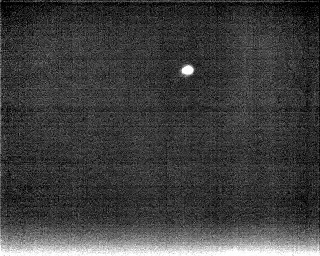AIRPLANE: (178, 61, 197, 79)
